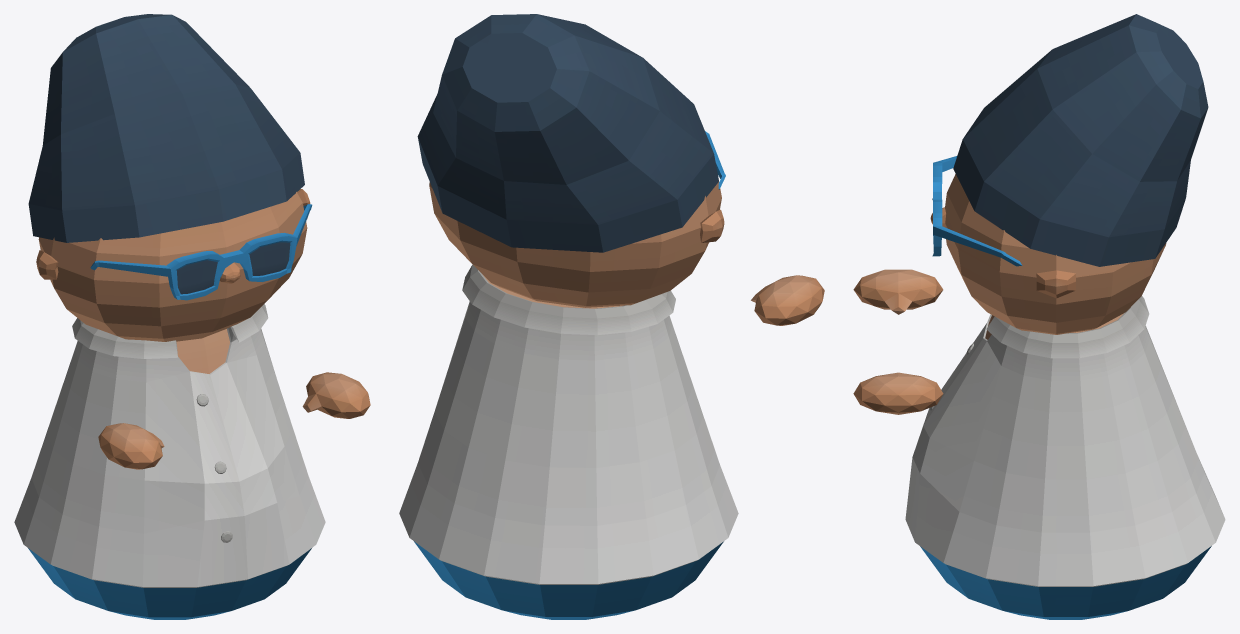
The model's file is character.fbx.
3 views of the same model, side by side, from view 1: azimuth 30°, elevation 25°; view 2: azimuth 150°, elevation 25°; view 3: azimuth 270°, elevation 25° (orthographic). The views are drawn at different scales.
Parts seen in each view (by area): view 1: body, head, Glasses, Hand 2, Hand 1; view 2: body, head, Hand 1; view 3: body, head, Hand 1, Hand 2, Glasses.
Part boxes in pixels (x1,y1,x2,y2): body: (14, 304, 325, 619); head: (28, 14, 310, 341); Glasses: (90, 204, 312, 300); Hand 2: (302, 372, 370, 418); Hand 1: (98, 423, 164, 469); body: (399, 264, 738, 619); head: (417, 14, 724, 307); Hand 1: (751, 275, 824, 325); body: (905, 296, 1225, 619); head: (930, 14, 1208, 334); Hand 1: (853, 269, 943, 314); Hand 2: (853, 372, 943, 414); Glasses: (932, 156, 1022, 266).
Bounding box in the file's own units: 209 × 389 × 236.
Materials: 1 (1 with a texture image).
